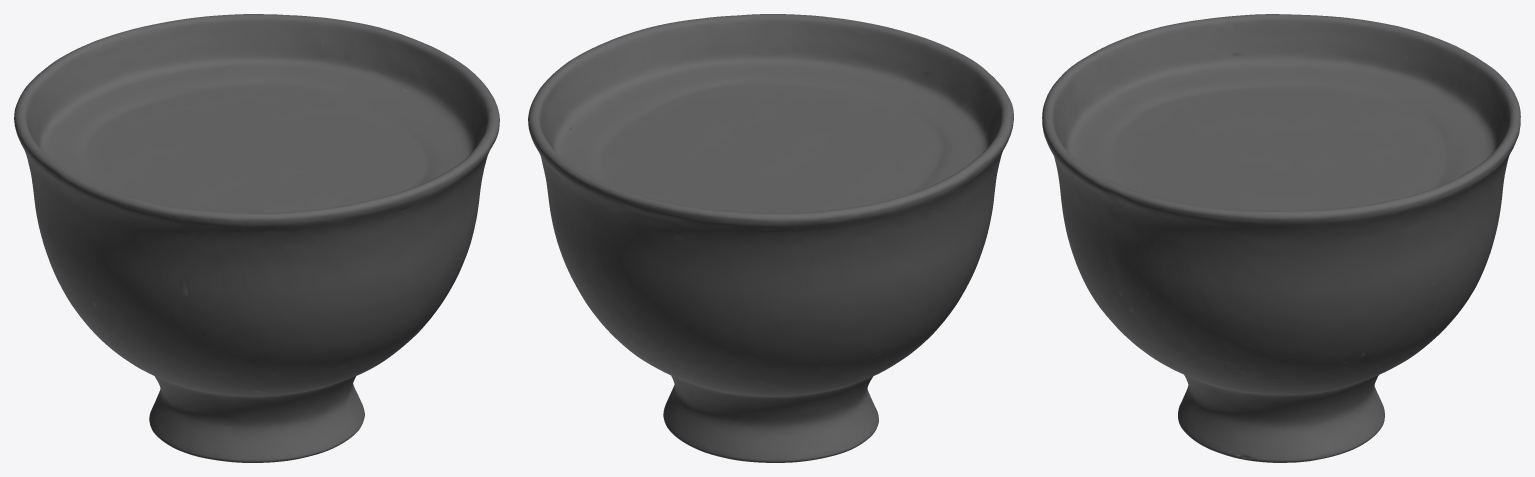
3 views of the same model, side by side, from view 1: azimuth 30°, elevation 25°; view 2: azimuth 150°, elevation 25°; view 3: azimuth 270°, elevation 25° (orthographic).
Parts seen in each view (by area): view 1: mesh_uvwarp; view 2: mesh_uvwarp; view 3: mesh_uvwarp.
Part boxes in pixels (x1,y1,x2,y2): mesh_uvwarp: (14, 14, 499, 462); mesh_uvwarp: (528, 14, 1013, 462); mesh_uvwarp: (1042, 14, 1520, 462).
Size of the model in its own units: 2 by 1.41 by 2.
Materials: 1 (1 with a texture image).
